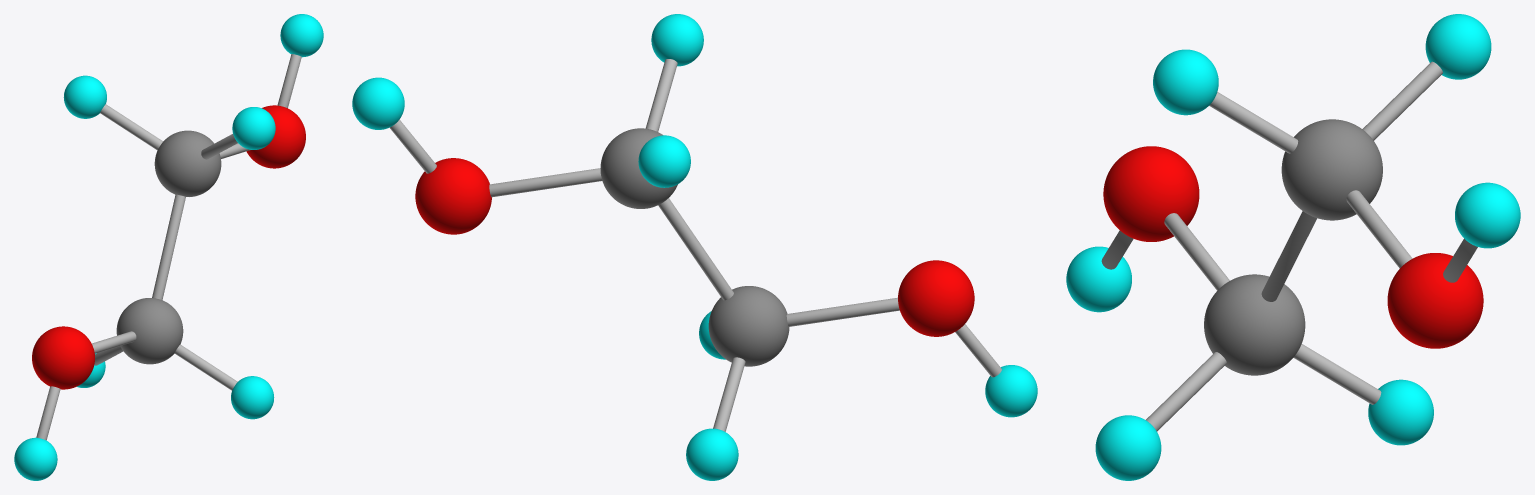
The model's file is 1,2-ethylene glycol.glb.
3 views of the same model, side by side, from view 1: azimuth 30°, elevation 25°; view 2: azimuth 150°, elevation 25°; view 3: azimuth 270°, elevation 25° (orthographic). The views are drawn at different scales.
Parts seen in each view (by area): view 1: CMAtom_1, CMAtom_0, CMAtom_8, CMAtom_2, CMAtom_9, CMAtom_6, CMAtom_4, CMAtom_5, CMAtom_7, CMBond_1_Segment_0, CMBond_4_Segment_0, CMBond_5_Segment_0 (+5 smaller); view 2: CMAtom_0, CMAtom_8, CMAtom_2, CMAtom_1, CMAtom_5, CMAtom_3, CMAtom_7, CMAtom_9, CMAtom_6, CMBond_1_Segment_0, CMBond_8_Segment_0, CMBond_2_Segment_0 (+4 smaller); view 3: CMAtom_0, CMAtom_1, CMAtom_8, CMAtom_2, CMAtom_4, CMAtom_6, CMAtom_7, CMAtom_5, CMAtom_3, CMAtom_9, CMBond_4_Segment_0, CMBond_5_Segment_0 (+7 smaller).
Boxes of the visible parts, x1,y1,x2,y2 form: CMAtom_1: (154, 130, 221, 196); CMAtom_0: (116, 298, 183, 364); CMAtom_8: (32, 326, 94, 389); CMAtom_2: (246, 105, 305, 168); CMAtom_9: (14, 437, 57, 480); CMAtom_6: (232, 107, 275, 149); CMAtom_4: (231, 376, 274, 419); CMAtom_5: (63, 75, 106, 118); CMAtom_7: (280, 14, 323, 57); CMBond_1_Segment_0: (152, 194, 185, 300); CMBond_4_Segment_0: (174, 344, 237, 390); CMBond_5_Segment_0: (100, 104, 162, 150); CMAtom_0: (708, 286, 789, 366); CMAtom_8: (898, 260, 974, 336); CMAtom_2: (415, 158, 491, 234); CMAtom_1: (600, 128, 677, 208); CMAtom_5: (638, 135, 690, 187); CMAtom_3: (686, 428, 738, 480); CMAtom_7: (352, 77, 404, 129); CMAtom_9: (985, 365, 1037, 417); CMAtom_6: (651, 14, 703, 66); CMBond_1_Segment_0: (658, 198, 733, 300); CMBond_8_Segment_0: (786, 297, 899, 326); CMBond_2_Segment_0: (489, 168, 602, 197); CMAtom_0: (1204, 274, 1305, 375); CMAtom_1: (1281, 119, 1382, 220); CMAtom_8: (1103, 146, 1199, 241); CMAtom_2: (1387, 253, 1483, 348); CMAtom_4: (1095, 415, 1161, 480); CMAtom_6: (1153, 49, 1218, 115); CMAtom_7: (1455, 182, 1520, 248); CMAtom_5: (1425, 14, 1491, 79); CMAtom_3: (1368, 379, 1433, 445); CMAtom_9: (1066, 246, 1131, 312); CMBond_4_Segment_0: (1146, 352, 1226, 431); CMBond_5_Segment_0: (1362, 61, 1442, 140).
Bounding box in the file's own units: 4.61 × 3.11 × 2.76.
